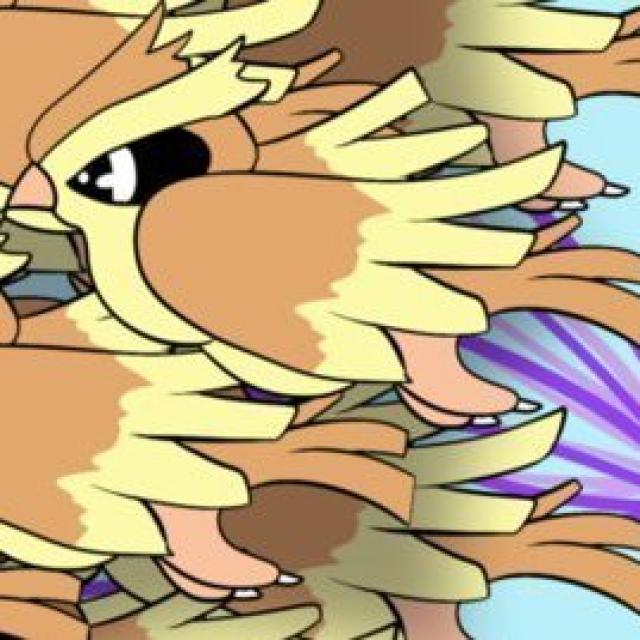Pidgey: (17, 12, 554, 415)
